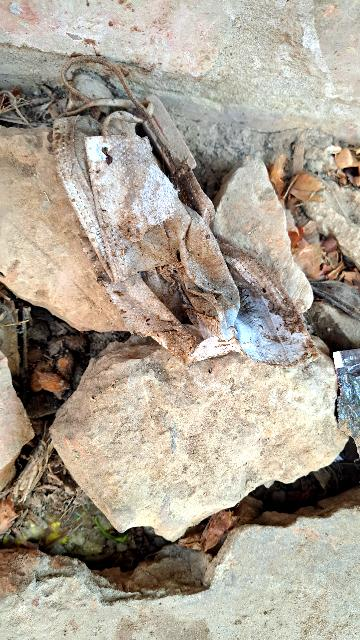mask: (31, 98, 310, 410)
